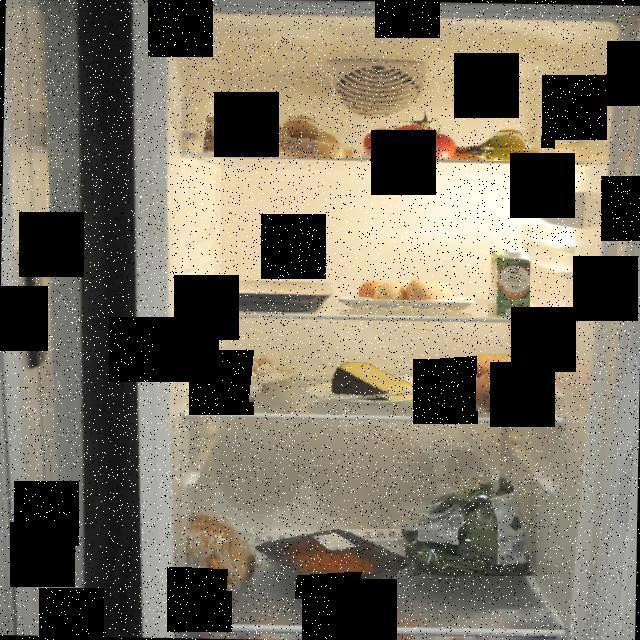banana: (438, 127, 556, 161)
beef: (256, 529, 420, 602)
bread: (186, 512, 264, 591)
cheese: (326, 362, 416, 404)
corn: (200, 112, 262, 157)
egg: (354, 276, 456, 310)
heavy_cream: (487, 244, 530, 318)
mushrooms: (210, 354, 304, 405)
potato: (258, 114, 362, 158)
spinach: (398, 471, 536, 576)
sweet_potato: (433, 354, 548, 414)
tomato: (363, 108, 461, 158)
